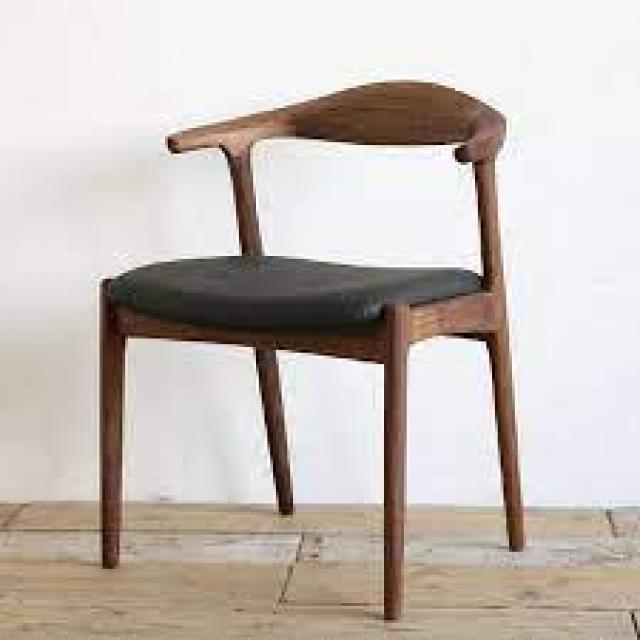chair: (63, 56, 563, 622)
